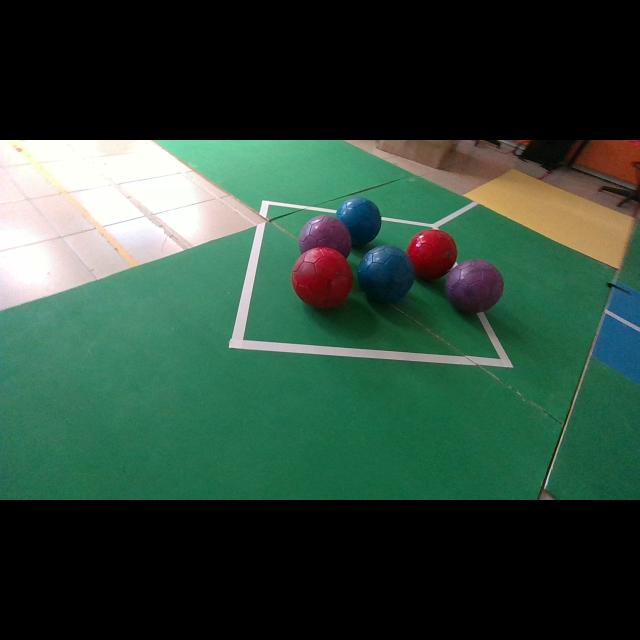B: (359, 245, 416, 302), (335, 198, 381, 246)
P: (445, 260, 504, 314), (299, 215, 351, 258)
R: (291, 248, 354, 309), (406, 229, 458, 279)
